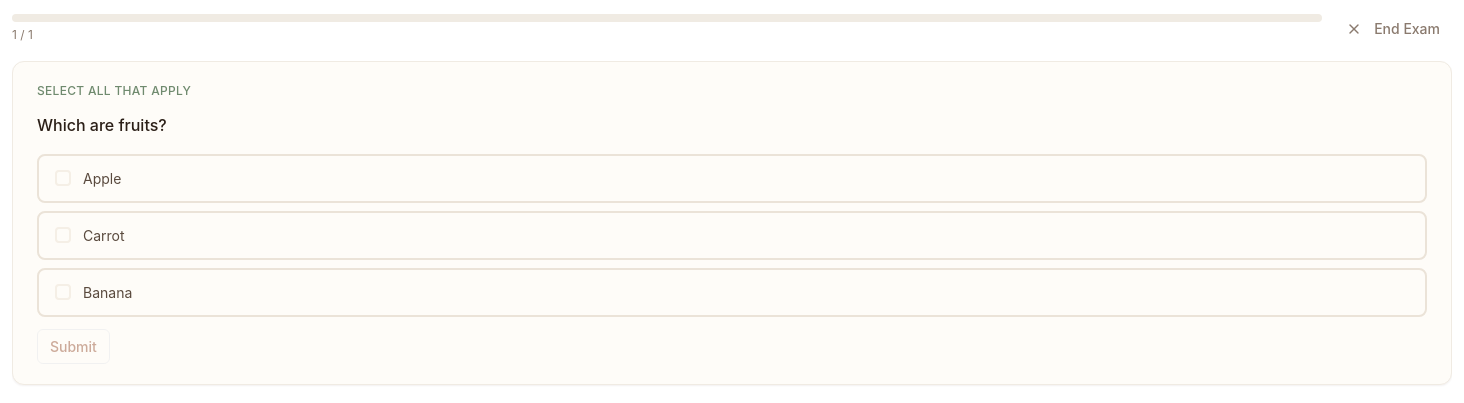
Test: KnowledgeExamSession › renders Checkbox question card and shows feedback
The width and height of the screenshot is (1464, 403).
Click the button "Apple": (102, 178) [37,154,1427,203]
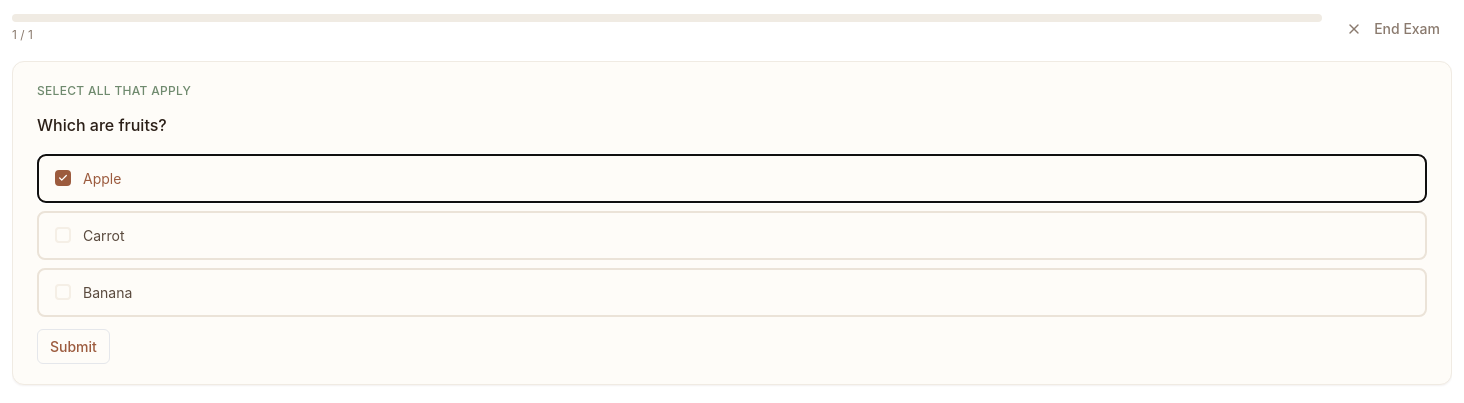
Click the button "Banana": (108, 292) [37,268,1427,317]
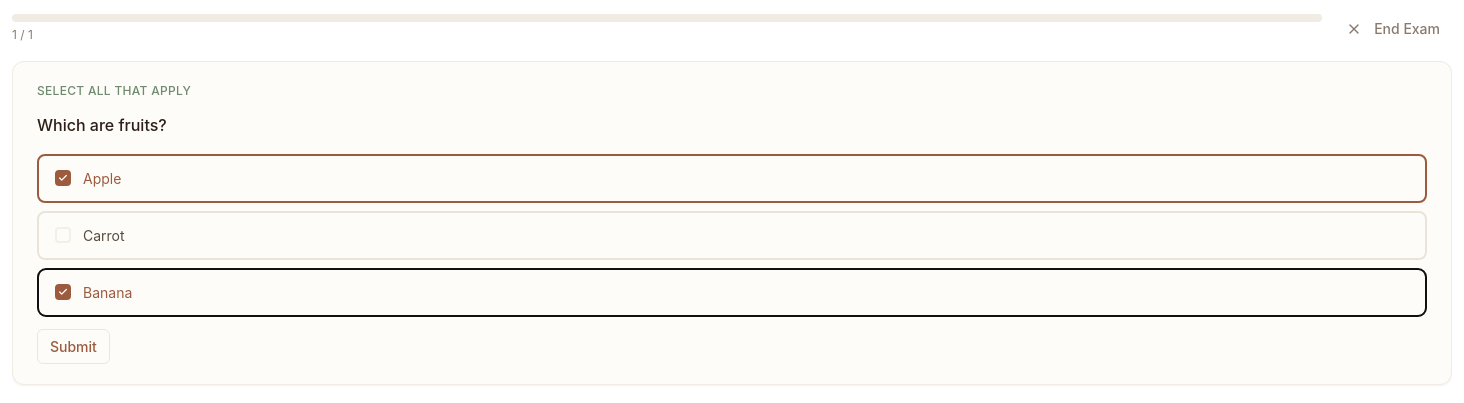
Click the button "Submit": (73, 346) [37,329,110,364]
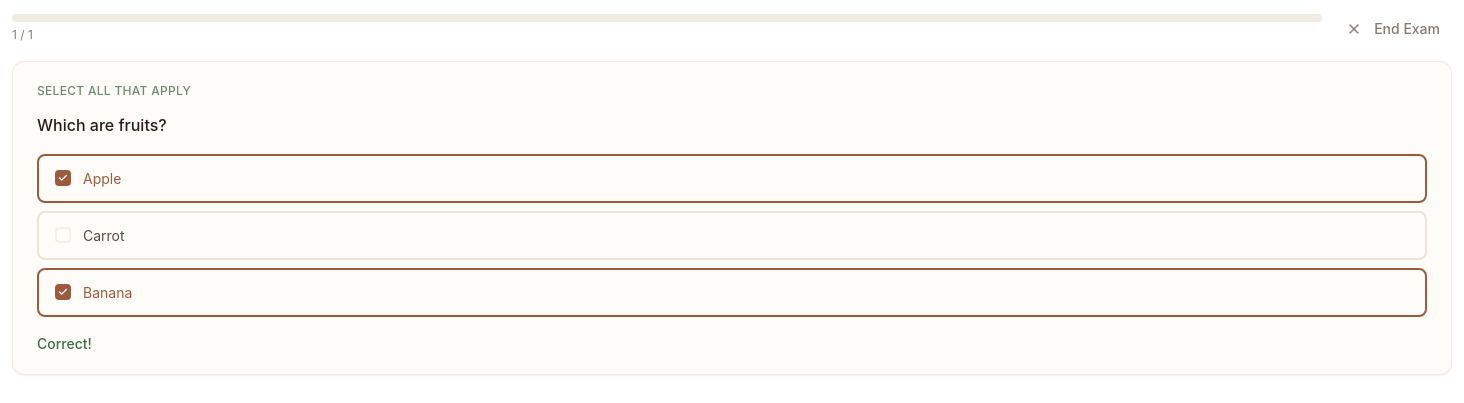
Result: the text "Correct!" is shown at [37,335,92,352]
